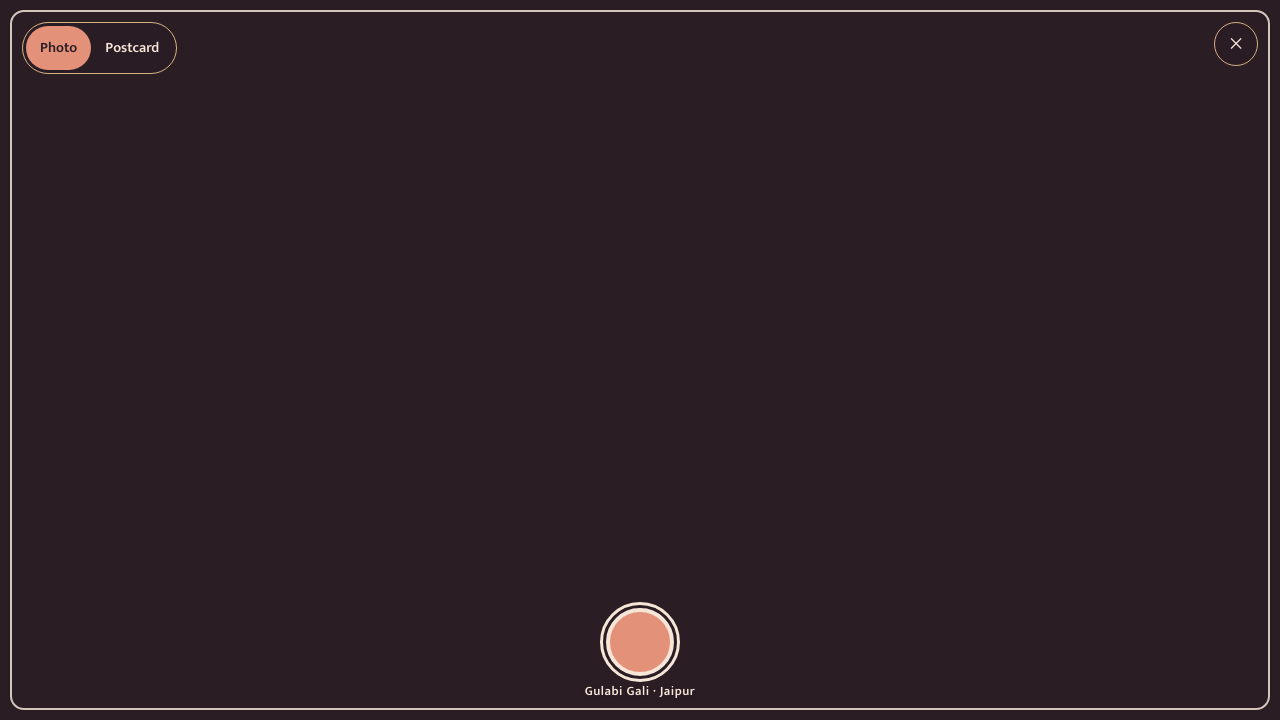
it: the status line is in the page from the start, empty, and only its text changes
Click the button named "Take photo": point(640, 642) [606,608,674,676]
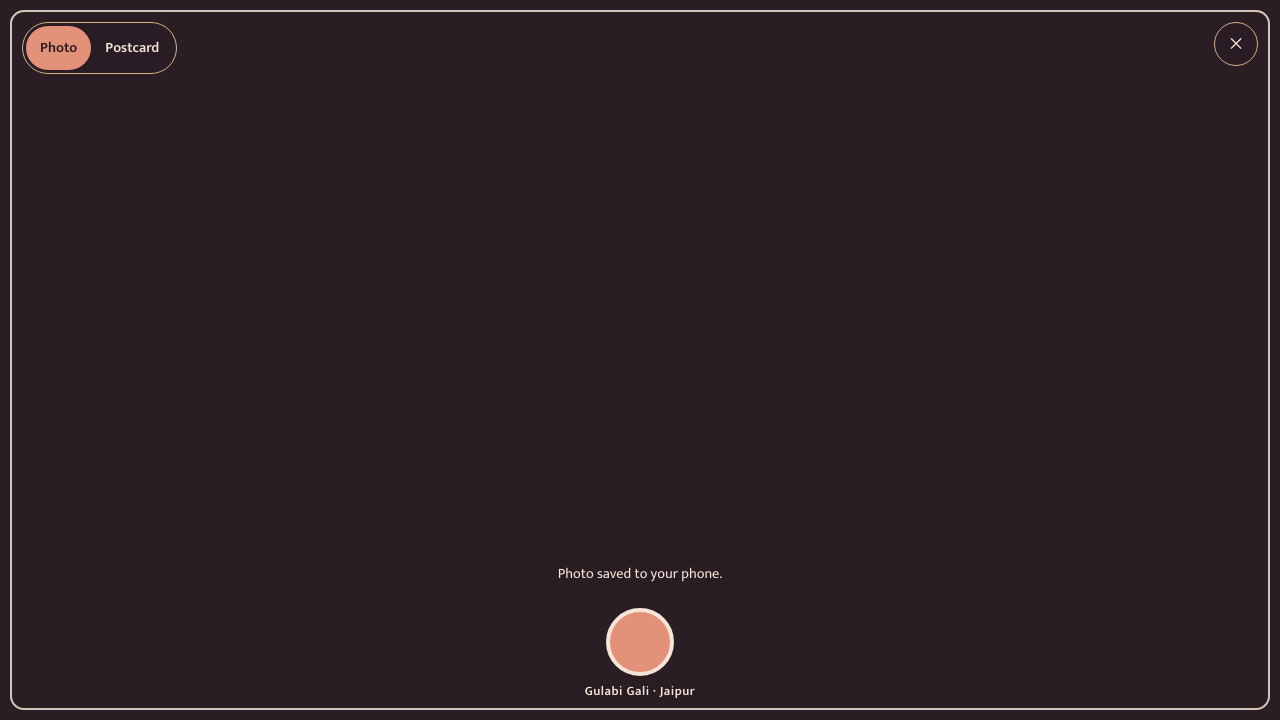
Expected: the message "Photo saved to your phone." is shown, [542,554,738,594]
